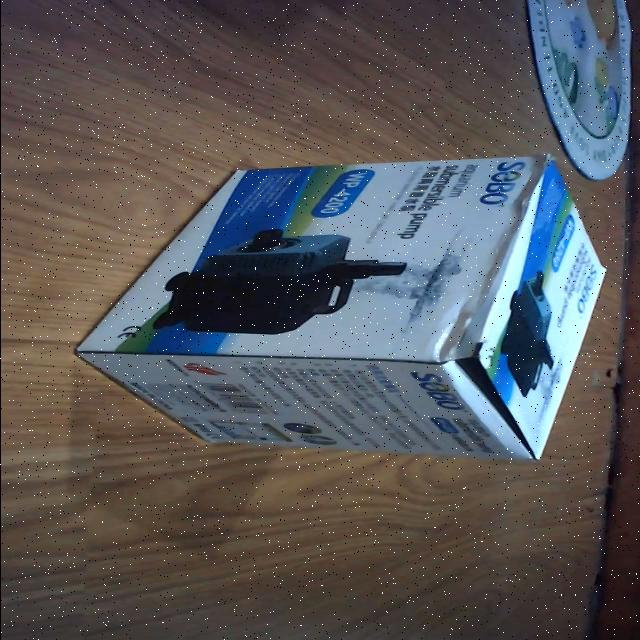SOBO_WP_4200: (61, 150, 619, 463)
